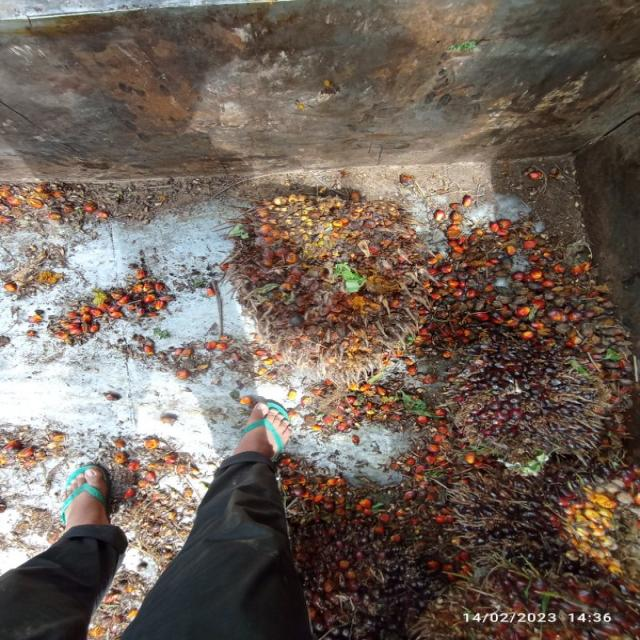fraksi 00: (456, 318, 604, 452)
fraksi 4: (227, 187, 436, 357)
